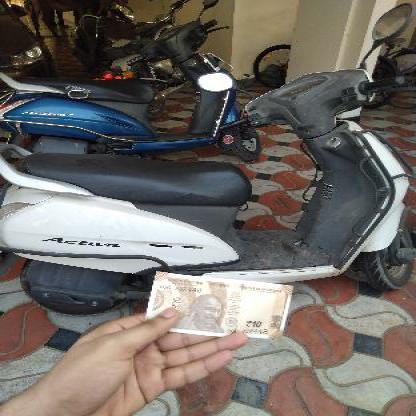New10Front: (149, 269, 289, 343)
